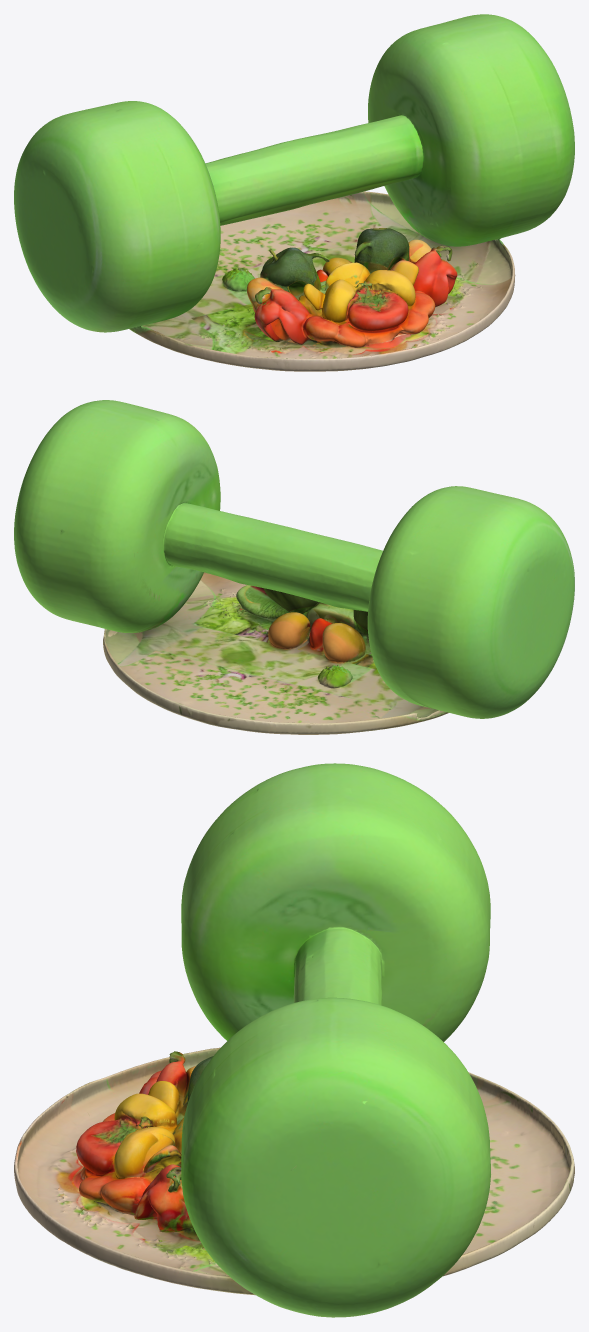
Rendered from fitLife.glb.
The picture shows the model from 3 angles, top to bottom: view 1: azimuth 30°, elevation 25°; view 2: azimuth 150°, elevation 25°; view 3: azimuth 270°, elevation 25°; orthographic projection. The views are drawn at different scales.
Visible parts, largest first — view 1: FitLife; view 2: FitLife; view 3: FitLife.
Boxes of the visible parts, x1,y1,x2,y2 form: FitLife: (14,14,574,371); FitLife: (14,400,574,734); FitLife: (14,763,574,1317).
Size of the model in its own units: 0.1951 by 0.0834 by 0.1437.
Materials: 1 (1 with a texture image).
